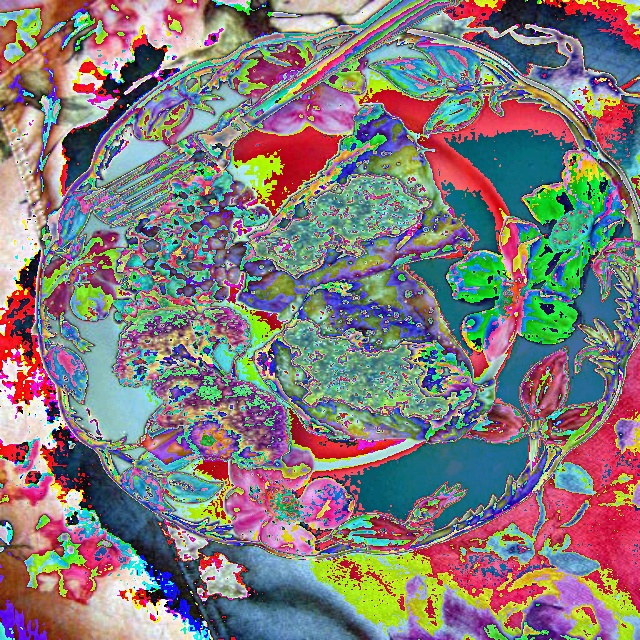background: (110, 105, 496, 471)
